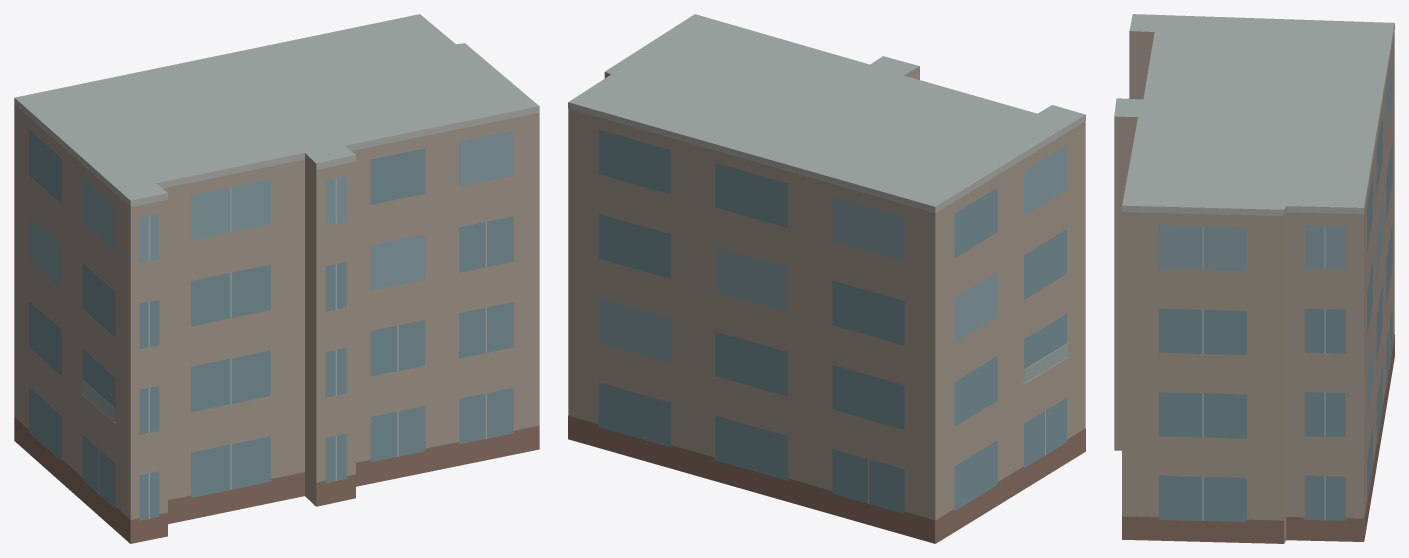
The model's file is survey-upis-32936095.glb.
3 renders of one model, left to right at view 1: azimuth 30°, elevation 25°; view 2: azimuth 150°, elevation 25°; view 3: azimuth 270°, elevation 25°, orthographic. The views are drawn at different scales.
Parts seen in each view (by area): view 1: survey-upis-32936095.tmp; view 2: survey-upis-32936095.tmp; view 3: survey-upis-32936095.tmp.
Part boxes in pixels (x1,y1,x2,y2): survey-upis-32936095.tmp: (14,14,539,543); survey-upis-32936095.tmp: (568,14,1085,543); survey-upis-32936095.tmp: (1114,14,1394,543).
Bounding box in the file's own units: 16.1 × 12.8 × 9.75.
